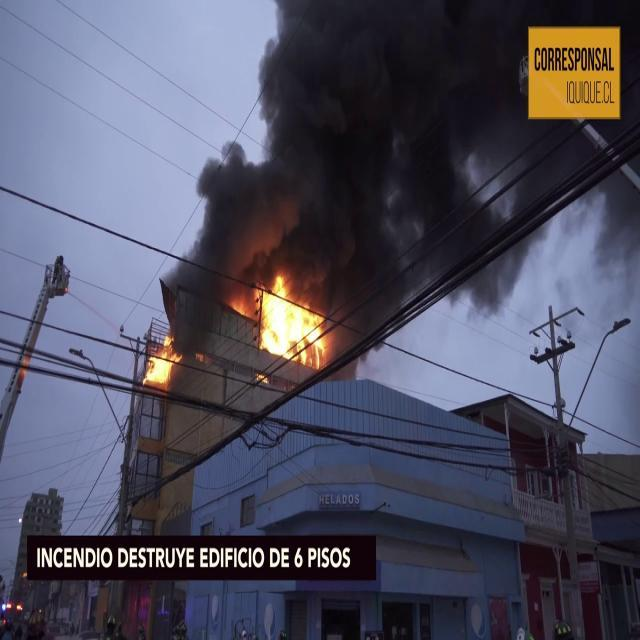Fire: (246, 269, 330, 364), (141, 330, 183, 390)
Smoke: (162, 1, 636, 347)
